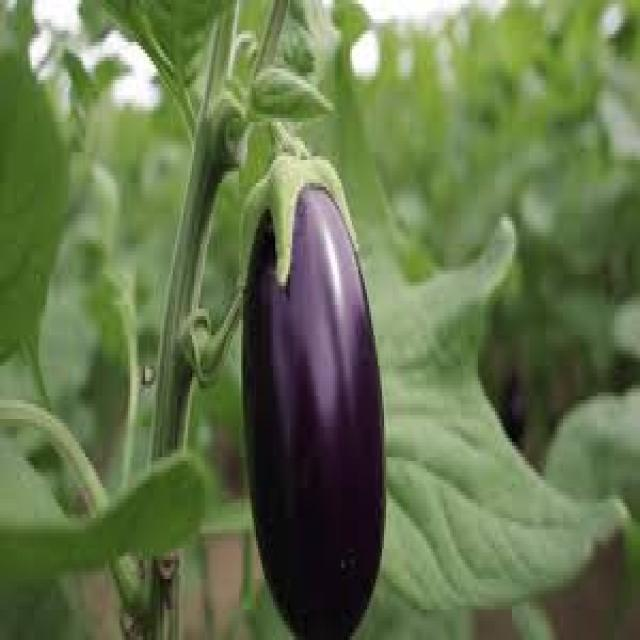Eggplant: (240, 69, 388, 640)
